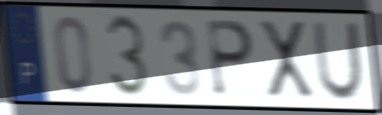0: (51, 14, 94, 96)
3: (103, 12, 151, 101), (159, 18, 201, 97)
P: (205, 17, 256, 100)
U: (311, 20, 365, 104)
X: (256, 19, 317, 102)
